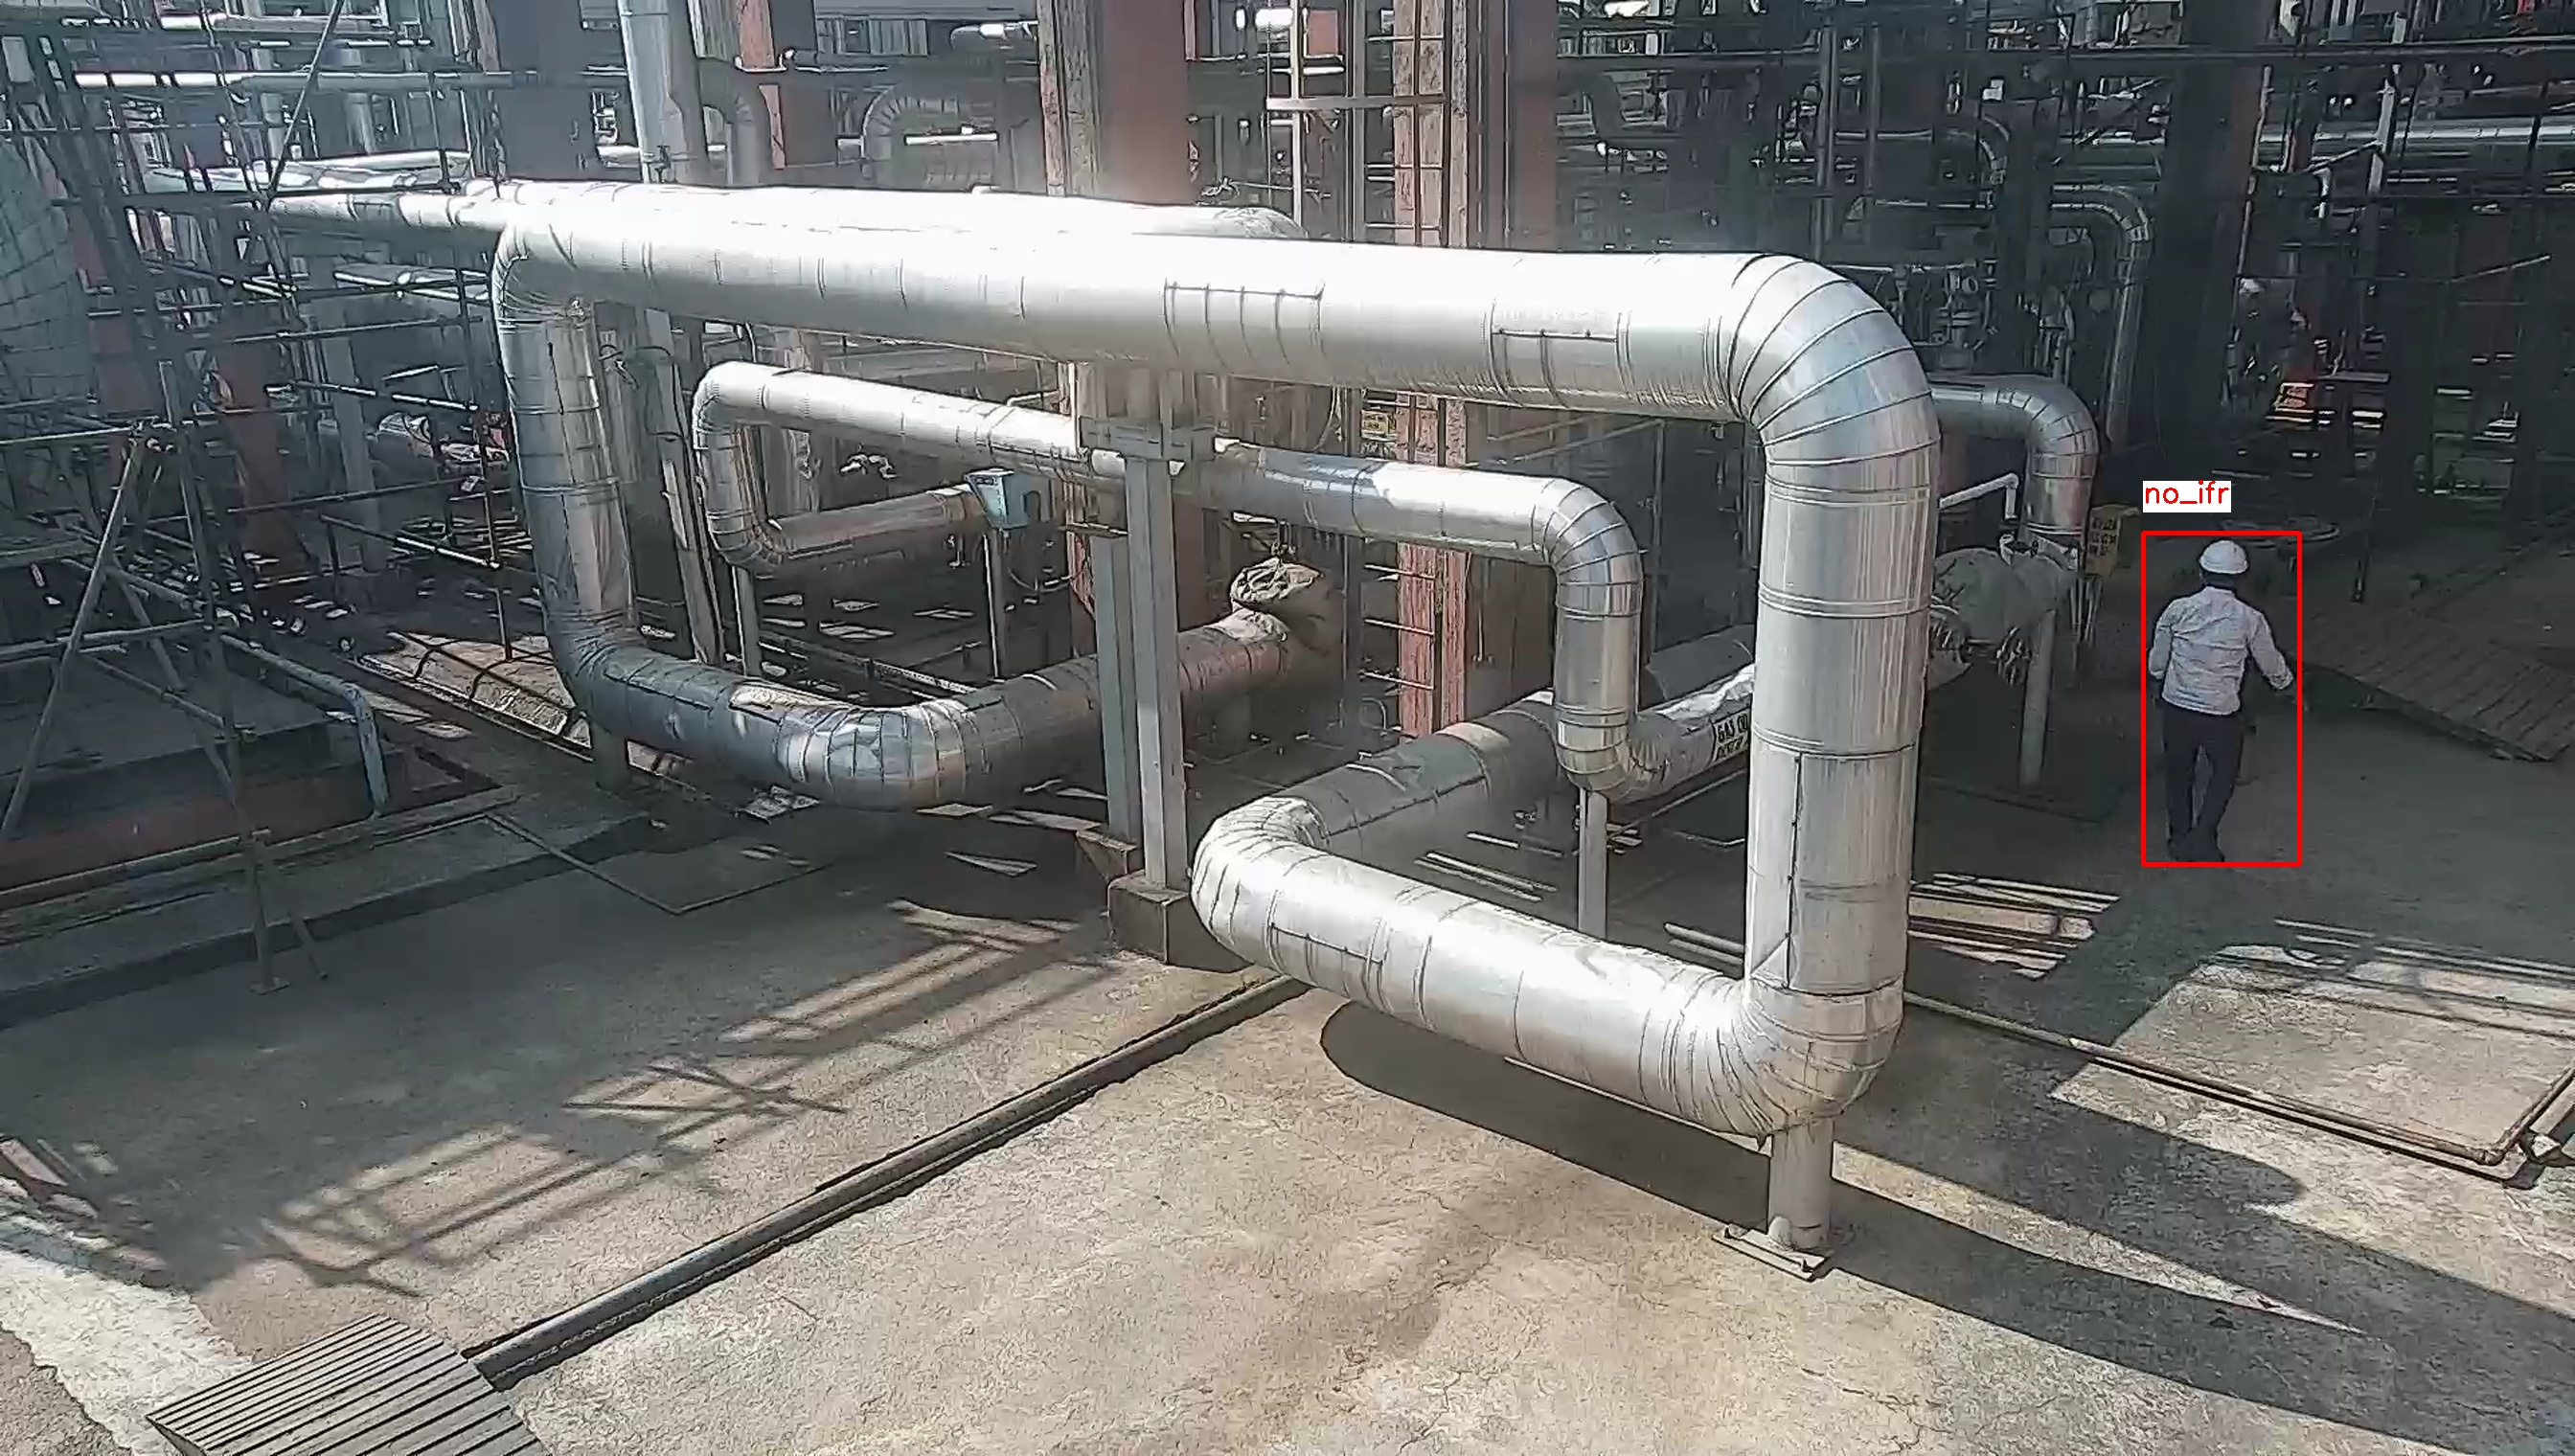Helmets: (2193, 540, 2264, 582)
